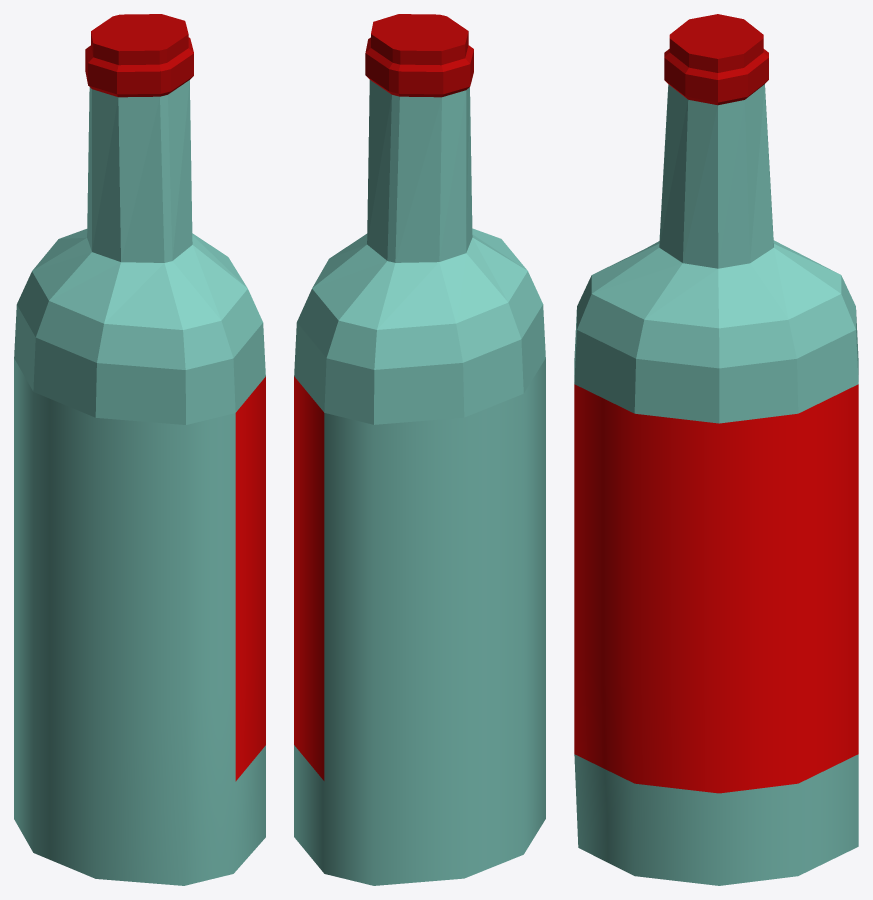
Rendered from BotellaVino5.fbx.
The picture shows the model from 3 angles, left to right: view 1: azimuth 30°, elevation 25°; view 2: azimuth 150°, elevation 25°; view 3: azimuth 270°, elevation 25°; orthographic projection.
Parts seen in each view (by area): view 1: BotellaVino05_LOD00; view 2: BotellaVino05_LOD00; view 3: BotellaVino05_LOD00.
Part boxes in pixels (<box>): BotellaVino05_LOD00: <box>14,14,265,885</box>; BotellaVino05_LOD00: <box>294,14,545,885</box>; BotellaVino05_LOD00: <box>574,14,858,885</box>.
Size of what is drawn, in the model's own units: 12.38 by 44.79 by 14.44.
1 material, 1 textured.
